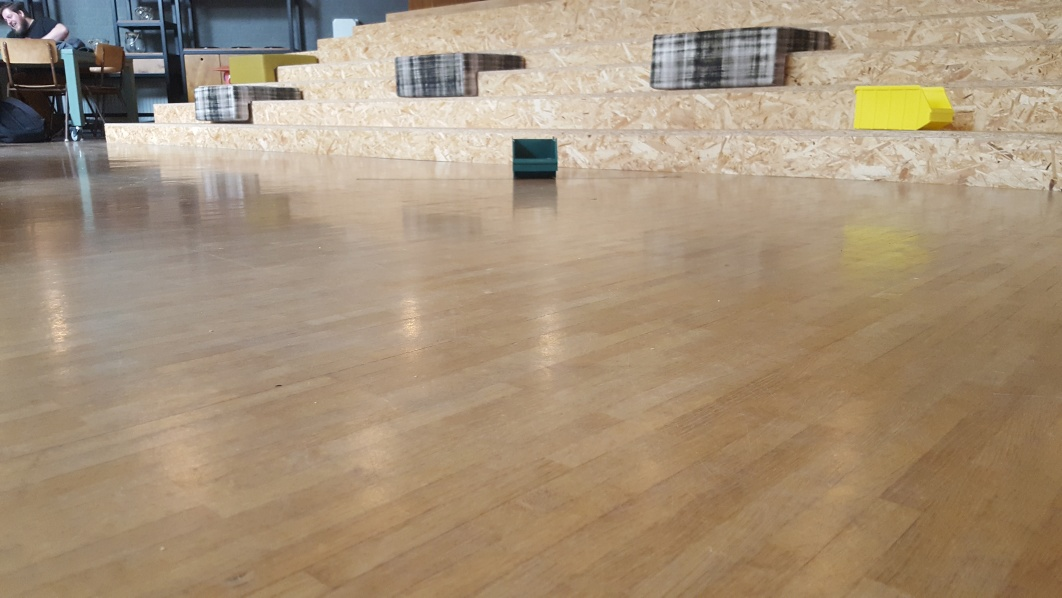tray: (846, 82, 955, 131), (505, 133, 562, 181)
